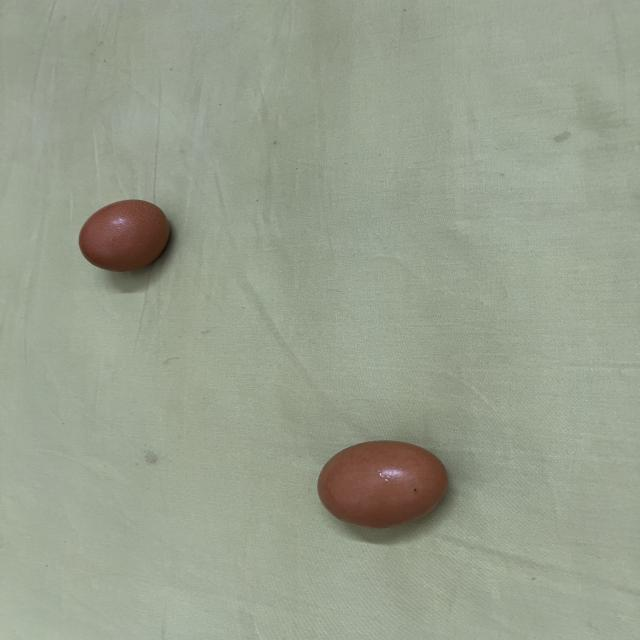Egg: (312, 436, 455, 528), (74, 198, 179, 274)
